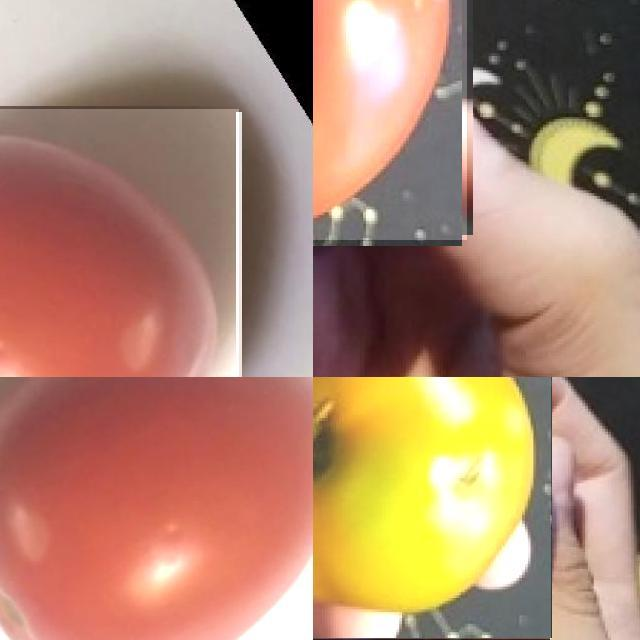Fresh Tomato: (0, 377, 313, 640), (0, 109, 239, 377), (313, 0, 467, 240)
Rotten Tomato: (313, 377, 551, 639)
